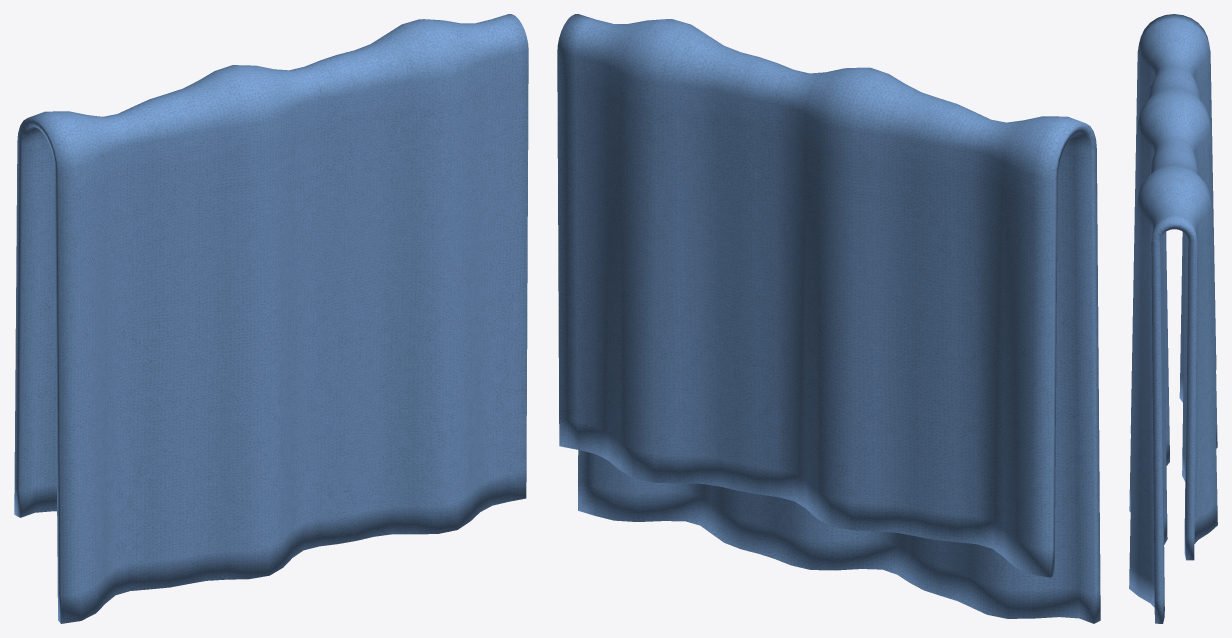
Rendered from TowelOnBar.glb.
3 renders of one model, left to right at view 1: azimuth 30°, elevation 25°; view 2: azimuth 150°, elevation 25°; view 3: azimuth 270°, elevation 25°, orthographic. The views are drawn at different scales.
Visible parts, largest first — view 1: TowelOnBar; view 2: TowelOnBar; view 3: TowelOnBar.
Boxes of the visible parts, x1,y1,x2,y2 form: TowelOnBar: (14, 14, 528, 623); TowelOnBar: (557, 14, 1100, 623); TowelOnBar: (1129, 14, 1217, 623).
Bounding box in the file's own units: 0.401 × 0.3916 × 0.076.
1 material, 1 textured.
